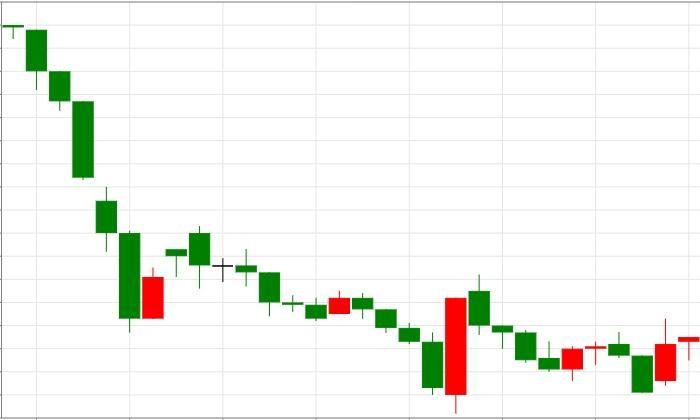bullish_engulfing_rise: (166, 225, 468, 413)
